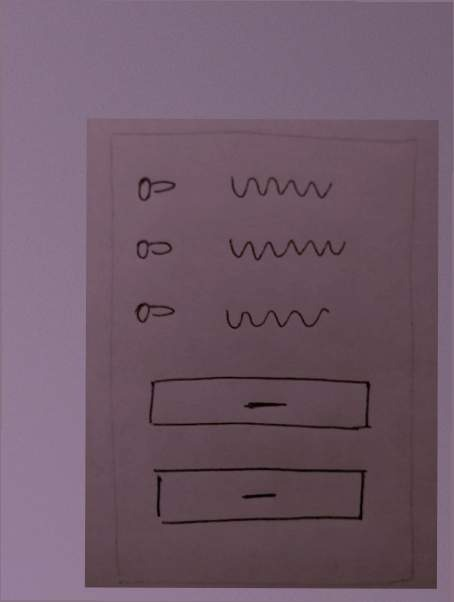button: (145, 459, 370, 538), (138, 370, 380, 437)
switch: (130, 163, 180, 207), (128, 294, 180, 327), (128, 233, 177, 268)
text: (223, 165, 336, 210), (222, 230, 348, 264), (217, 301, 337, 336)
